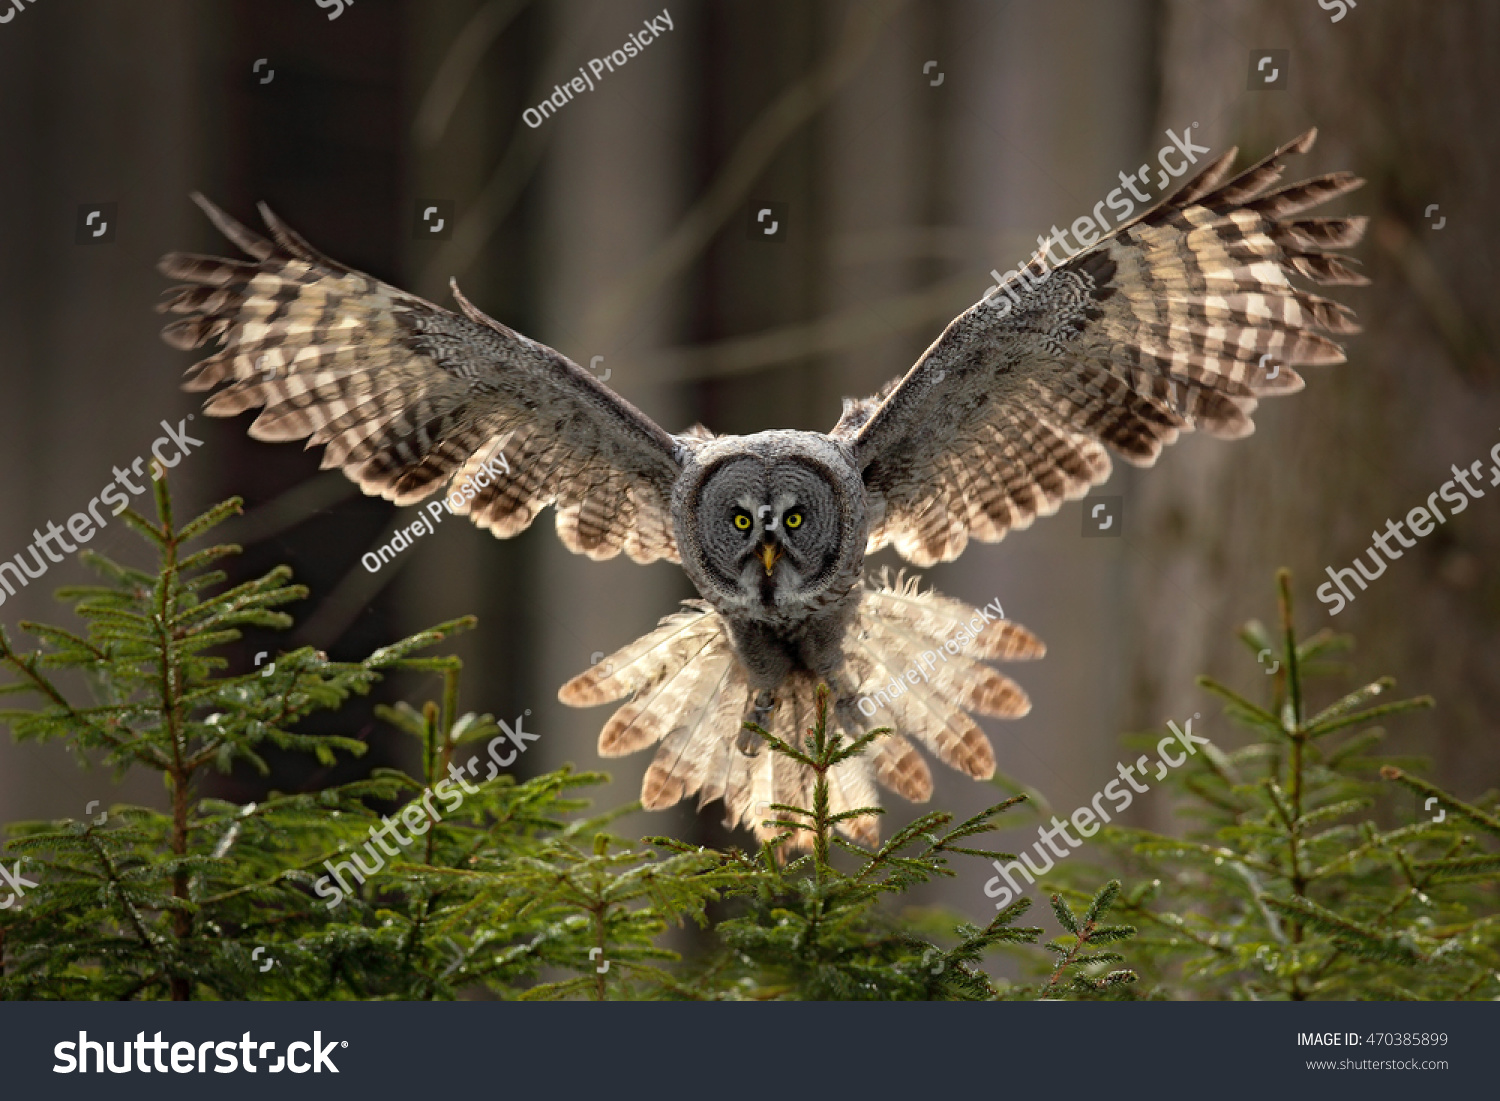owl: (133, 123, 1360, 901)
